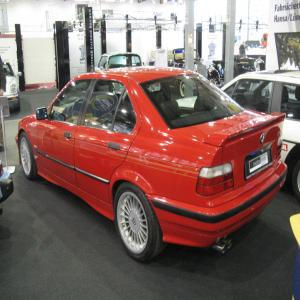Vehicle-registration-plate: (249, 151, 274, 179)
